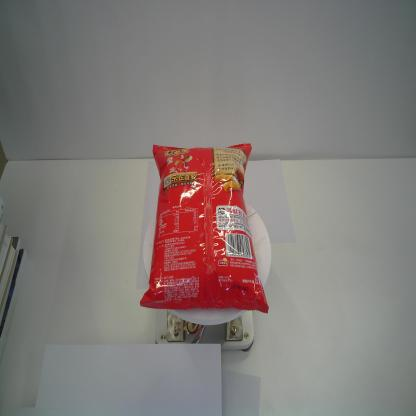Puffed Food: (137, 142, 270, 316)
